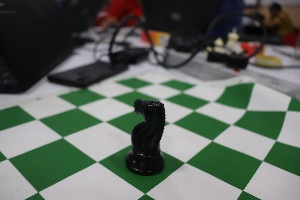black_horse: (115, 86, 170, 177)
